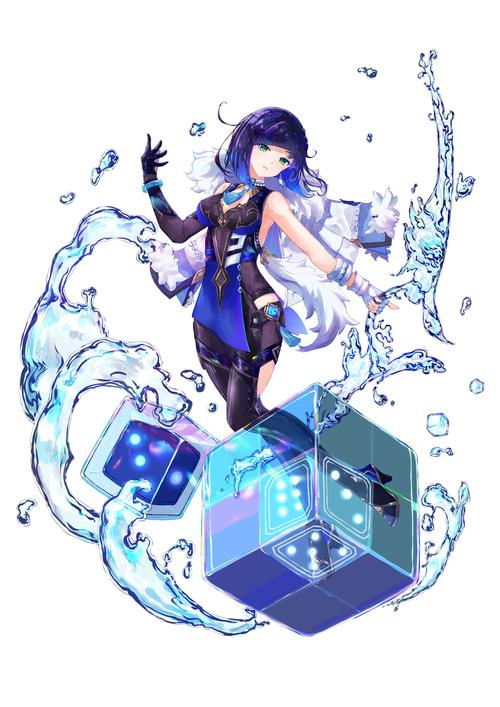夜兰: (136, 104, 399, 586)
